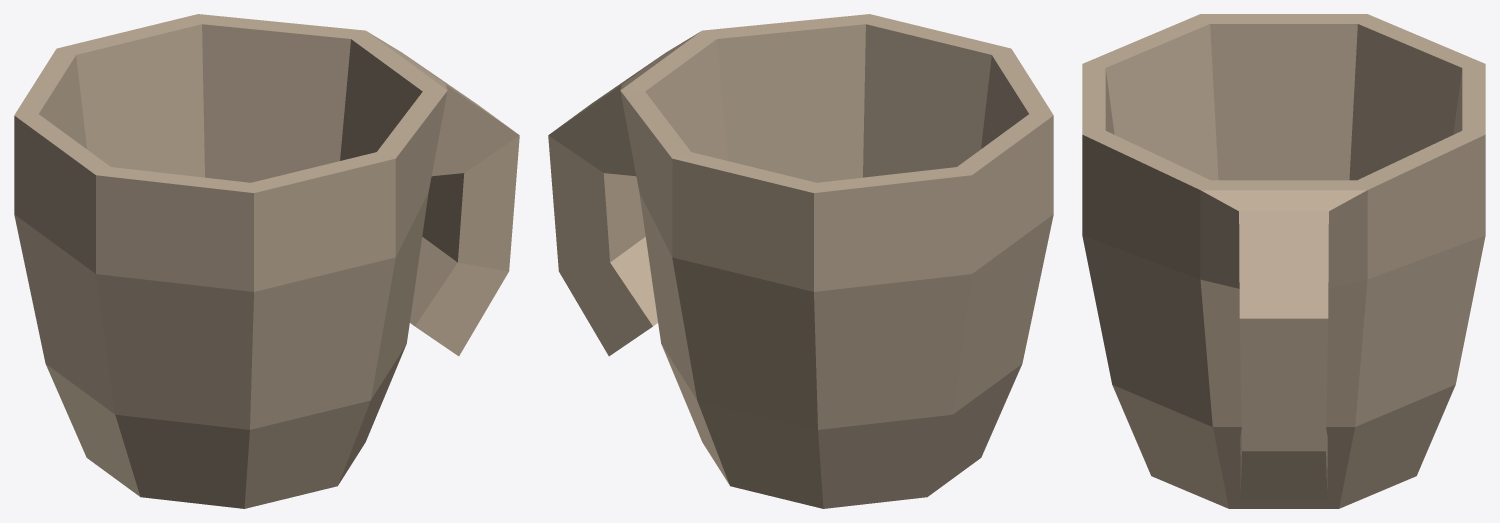
The model's file is coffee cup lvl2.fbx.
3 views of the same model, side by side, from view 1: azimuth 30°, elevation 25°; view 2: azimuth 150°, elevation 25°; view 3: azimuth 270°, elevation 25° (orthographic). The views are drawn at different scales.
Parts seen in each view (by area): view 1: Cylinder.005; view 2: Cylinder.005; view 3: Cylinder.005.
Boxes of the visible parts, x1=… form: Cylinder.005: x1=14, y1=14, x2=519, y2=508; Cylinder.005: x1=548, y1=14, x2=1053, y2=508; Cylinder.005: x1=1082, y1=14, x2=1485, y2=508.
Bounding box in the file's own units: 39.89 × 51.65 × 38.6.
1 material, 1 textured.
